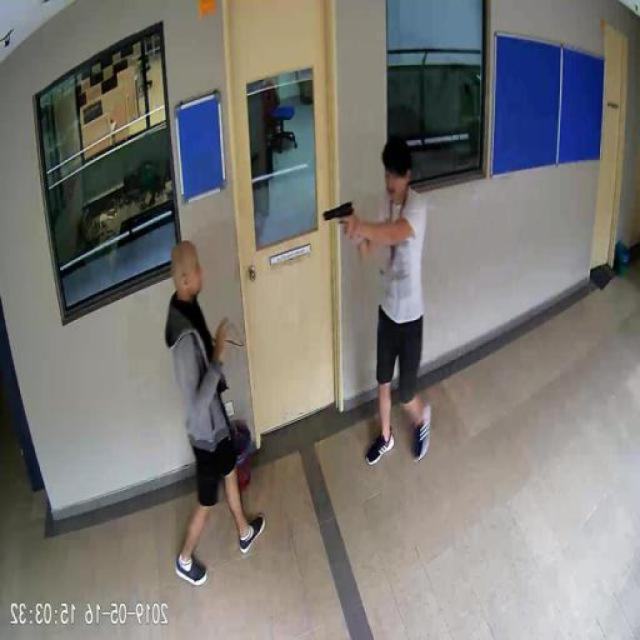pistol: (324, 196, 356, 236)
